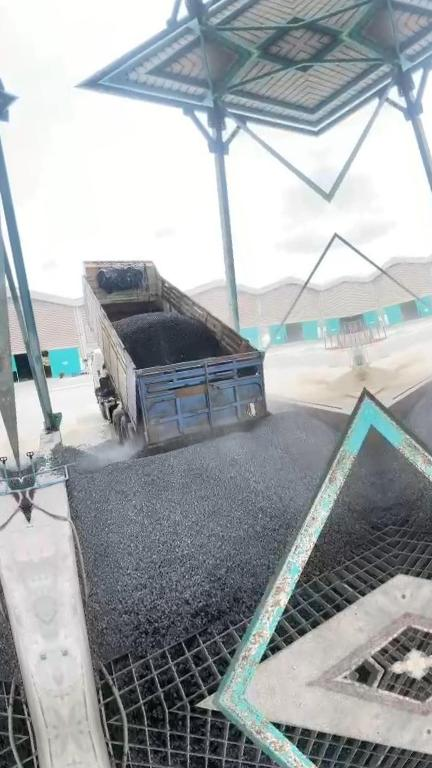gravel: (47, 407, 345, 662), (307, 432, 388, 575), (113, 312, 222, 367)
sand: (293, 367, 364, 408)
